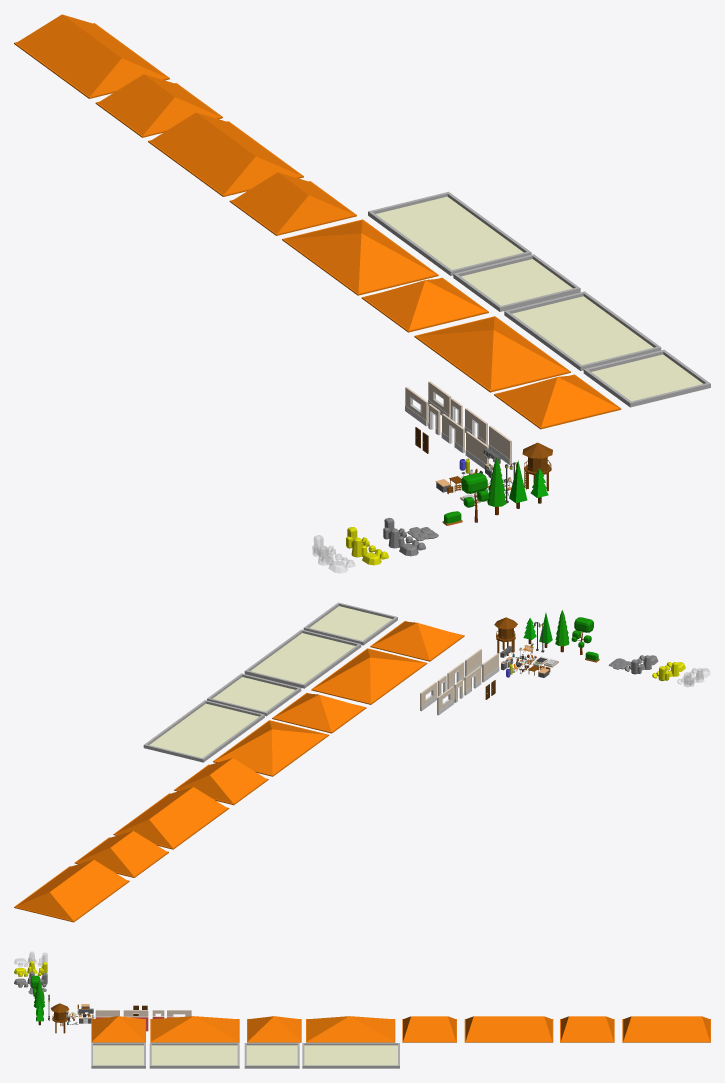
The model's file is cosas low poly.dae.
The picture shows the model from 3 angles, top to bottom: view 1: azimuth 30°, elevation 25°; view 2: azimuth 150°, elevation 25°; view 3: azimuth 270°, elevation 25°; orthographic projection. The views are drawn at different scales.
Parts seen in each view (by area): view 1: Cube_084, Cube_081, Cube_080, Cube_088, Cube_085, Cube_086, Cube_079, Cube_083, Cube_082, Cube_089, Cube_078, Cube_087 (+1 smaller); view 2: Cube_084, Cube_088, Cube_081, Cube_080, Cube_085, Cube_086, Cube_079, Cube_089, Cube_083, Cube_082, Cube_078, Cube_087 (+1 smaller); view 3: Cube_084, Cube_080, Cube_088, Cube_081, Cube_085, Cube_086, Cube_079, Cube_082, Cube_089, Cube_083, Cube_087, Cube_078 (+1 smaller).
Part boxes in pixels (x1=…): Cube_084: x1=368, y1=191, x2=531, y2=275; Cube_081: x1=504, y1=291, x2=661, y2=370; Cube_080: x1=148, y1=112, x2=303, y2=196; Cube_088: x1=14, y1=14, x2=169, y2=98; Cube_085: x1=414, y1=316, x2=570, y2=392; Cube_086: x1=282, y1=219, x2=438, y2=295; Cube_079: x1=229, y1=172, x2=356, y2=235; Cube_083: x1=583, y1=349, x2=710, y2=407; Cube_082: x1=453, y1=254, x2=580, y2=311; Cube_089: x1=95, y1=74, x2=222, y2=137; Cube_078: x1=494, y1=374, x2=621, y2=429; Cube_087: x1=361, y1=277, x2=488, y2=332; Cube_084: x1=143, y1=700, x2=264, y2=762; Cube_088: x1=14, y1=860, x2=129, y2=922; Cube_081: x1=244, y1=629, x2=361, y2=688; Cube_080: x1=113, y1=787, x2=229, y2=849; Cube_085: x1=311, y1=648, x2=427, y2=704; Cube_086: x1=213, y1=720, x2=329, y2=776; Cube_079: x1=174, y1=758, x2=268, y2=805; Cube_089: x1=74, y1=831, x2=168, y2=877; Cube_083: x1=303, y1=602, x2=397, y2=645; Cube_082: x1=207, y1=673, x2=301, y2=716; Cube_078: x1=370, y1=621, x2=464, y2=661; Cube_087: x1=272, y1=693, x2=366, y2=733; Cube_084: x1=302, y1=1043, x2=399, y2=1068; Cube_080: x1=464, y1=1016, x2=553, y2=1042; Cube_088: x1=622, y1=1016, x2=710, y2=1042; Cube_081: x1=149, y1=1043, x2=239, y2=1068; Cube_085: x1=150, y1=1016, x2=239, y2=1042; Cube_086: x1=306, y1=1016, x2=395, y2=1042; Cube_079: x1=402, y1=1016, x2=456, y2=1042; Cube_082: x1=244, y1=1043, x2=299, y2=1068; Cube_089: x1=560, y1=1016, x2=614, y2=1042; Cube_083: x1=91, y1=1043, x2=145, y2=1068; Cube_087: x1=247, y1=1016, x2=301, y2=1042; Cube_078: x1=91, y1=1016, x2=145, y2=1042.
Bounding box in the file's own units: 701 × 1624 × 90.11.
